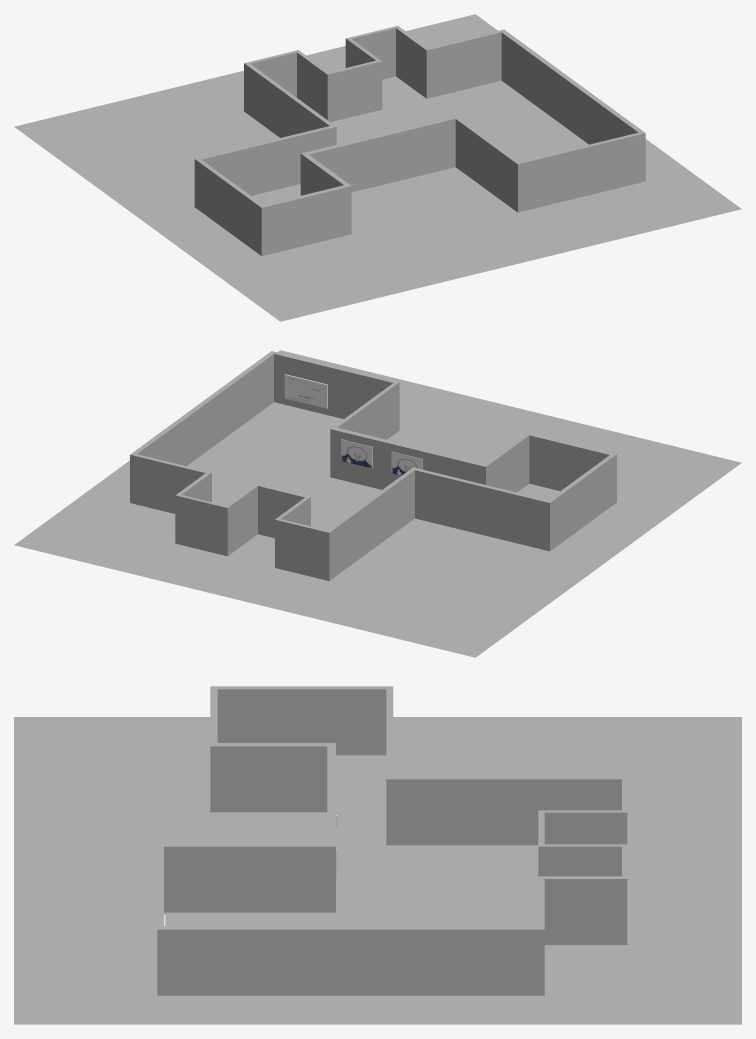
3 renders of one model, top to bottom at view 1: azimuth 30°, elevation 25°; view 2: azimuth 150°, elevation 25°; view 3: azimuth 270°, elevation 25°, orthographic. The views are drawn at different scales.
Parts seen in each view (by area): view 1: floot, walk; view 2: floot, walk, box2, box1_1, box1; view 3: floot, walk.
Part boxes in pixels (x1,y1,x2,y2): floot: [14, 14, 741, 321]; walk: [194, 26, 645, 255]; floot: [14, 350, 741, 657]; walk: [130, 351, 616, 580]; box2: [284, 374, 327, 408]; box1_1: [341, 439, 372, 468]; box1: [391, 451, 422, 475]; floot: [14, 717, 741, 1024]; walk: [157, 686, 627, 995].
Bounding box in the file's own units: 30 × 3 × 30.
Materials: 3 (2 with a texture image).
